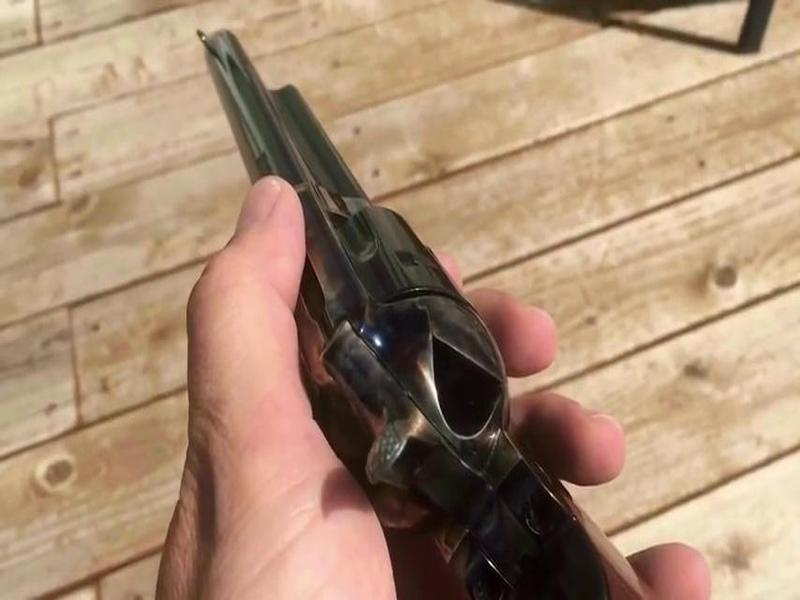Revolver: (179, 21, 527, 588)
